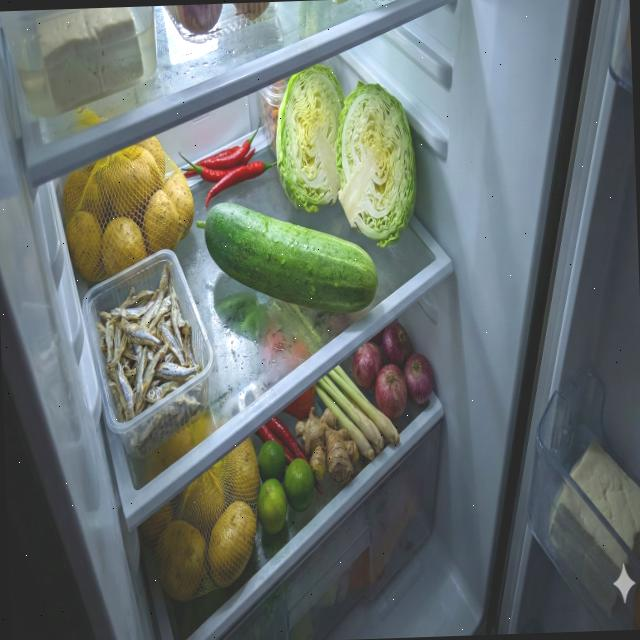anchovies: (93, 260, 209, 458)
cabbage: (332, 78, 418, 250), (272, 60, 348, 214)
chili: (177, 115, 278, 208), (254, 414, 310, 468)
cucumber: (203, 196, 380, 318)
ginger: (294, 405, 360, 484)
lemongrass: (314, 362, 399, 462)
lime: (257, 438, 316, 534)
onion: (350, 318, 434, 422)
potato: (136, 436, 264, 604), (61, 134, 196, 282)
tofu: (34, 6, 145, 112)
